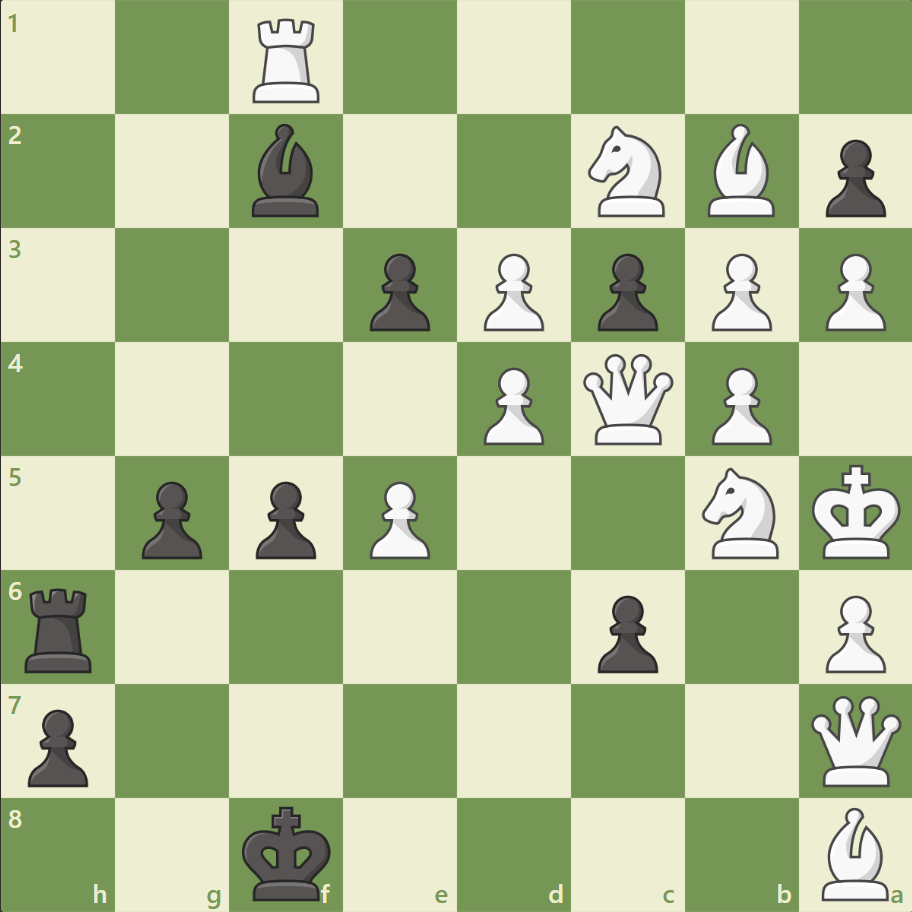B: (812, 801, 896, 904), (698, 120, 782, 222)
K: (806, 458, 906, 566)
N: (692, 461, 789, 564), (579, 121, 676, 223)
P: (701, 359, 776, 450), (474, 359, 549, 450), (701, 246, 776, 337), (474, 246, 549, 337), (815, 586, 889, 677), (361, 473, 435, 564), (815, 246, 889, 337)
Q: (578, 349, 677, 449), (805, 690, 904, 789)
R: (246, 12, 329, 109)
b: (244, 120, 328, 222)
k: (238, 798, 338, 906)
p: (20, 700, 95, 791), (247, 473, 322, 564), (133, 473, 208, 564), (588, 586, 662, 677), (588, 246, 662, 337), (361, 246, 435, 337), (815, 132, 889, 223)
r: (19, 579, 102, 676)
